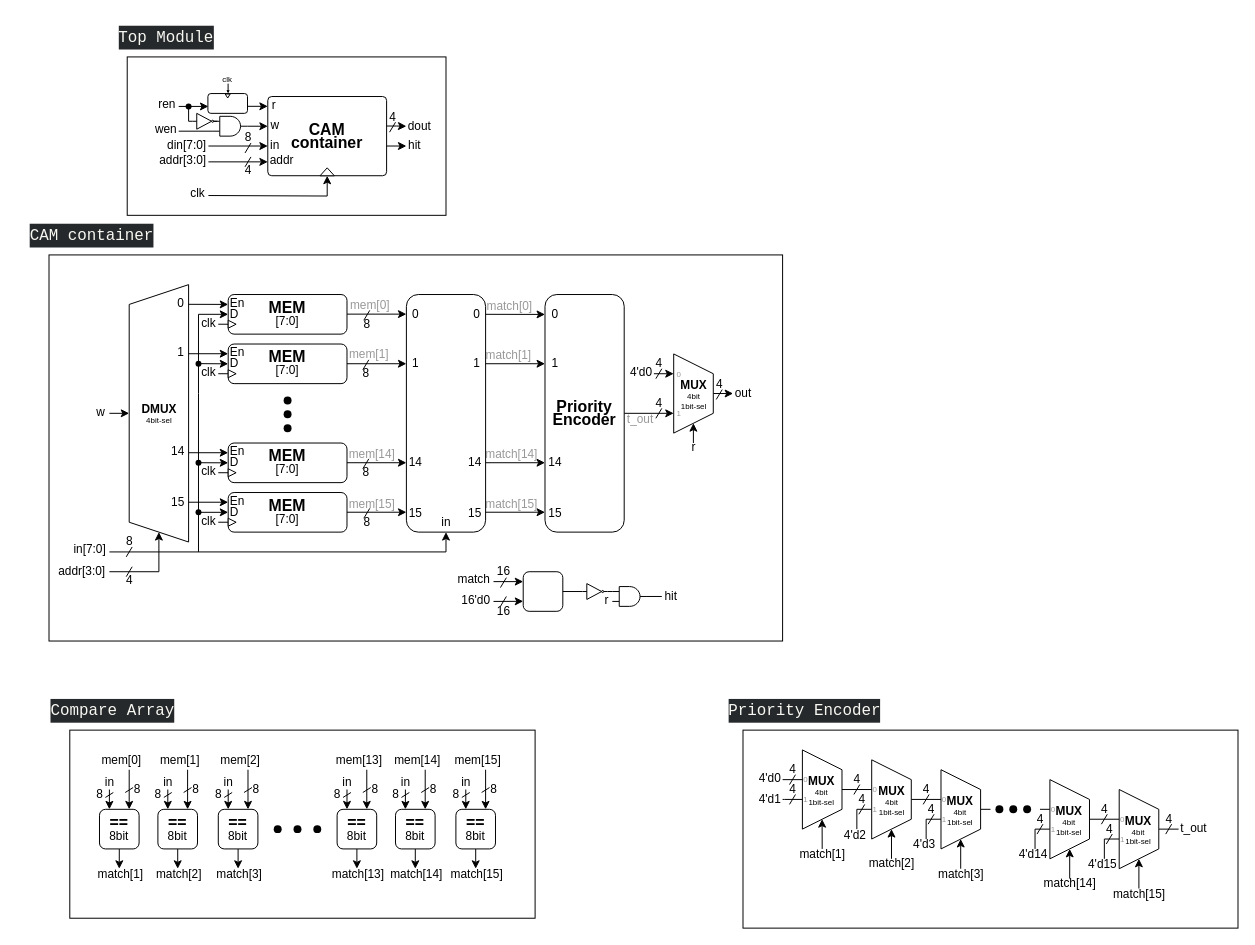
The diagram is 1255 pixels wide and 945 high, and some of its shapes have lost their labels. The box of each missing label's shape, as (x1, y1, x2, y2) in pixels:
== 16bit: (522, 571, 563, 611)
Compare Array 16x1: (405, 294, 486, 532)
DFF: (207, 93, 248, 113)
